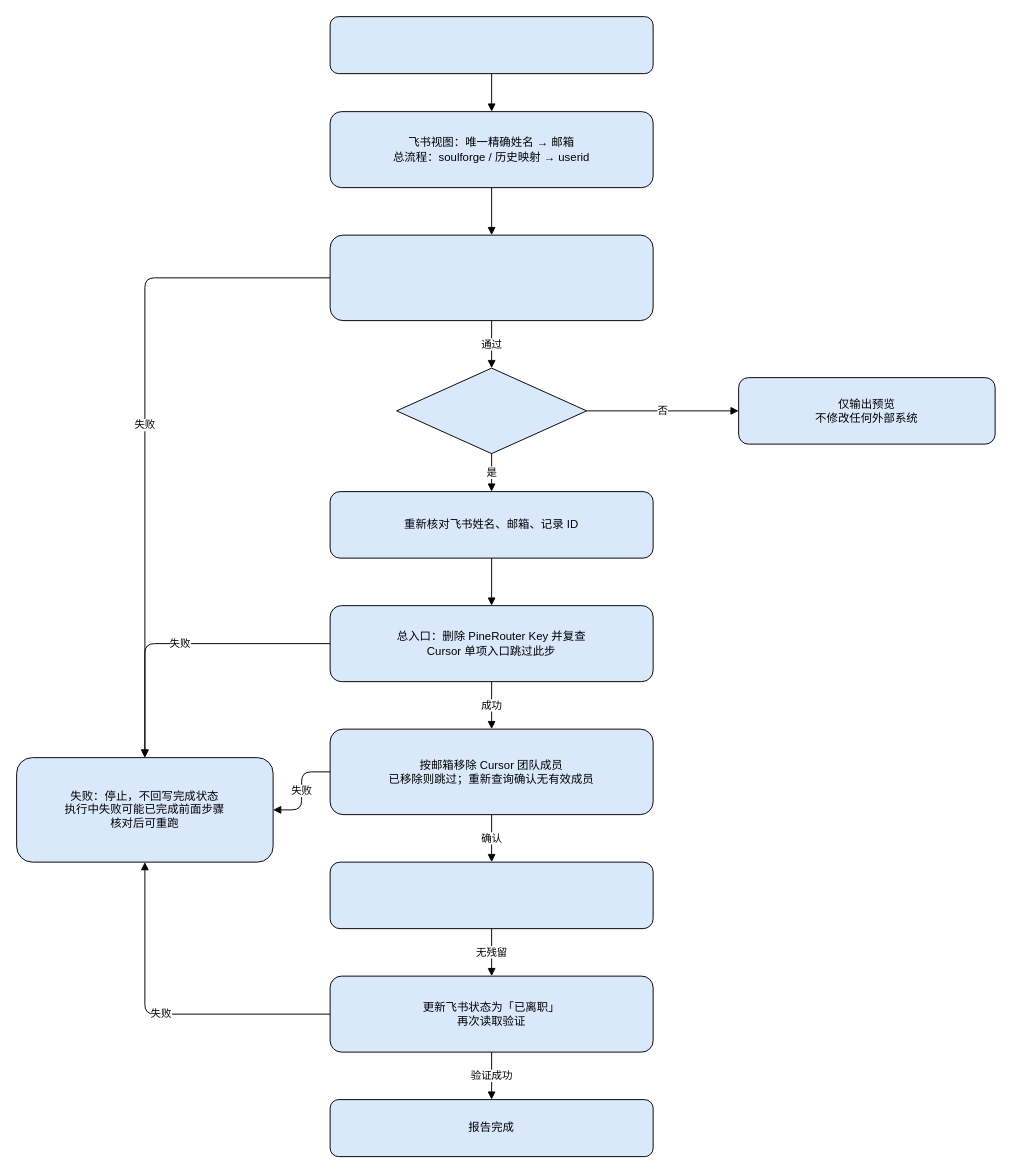
Image size: 1012x1173. Some labels were removed from this diagram. The box of each missing label's shape, as (x1, y1, x2, y2) in pixels:
全部只读预检 Cursor 成员状态；PineRouter Key 数量 认证失败则停止，尚未写入: (329, 234, 653, 321)
前置：停用员工登录 输入员工姓名: (329, 16, 653, 74)
总入口：再次复查 PineRouter 无 Key: (329, 861, 653, 929)
显式 --execute？: (396, 367, 587, 454)
